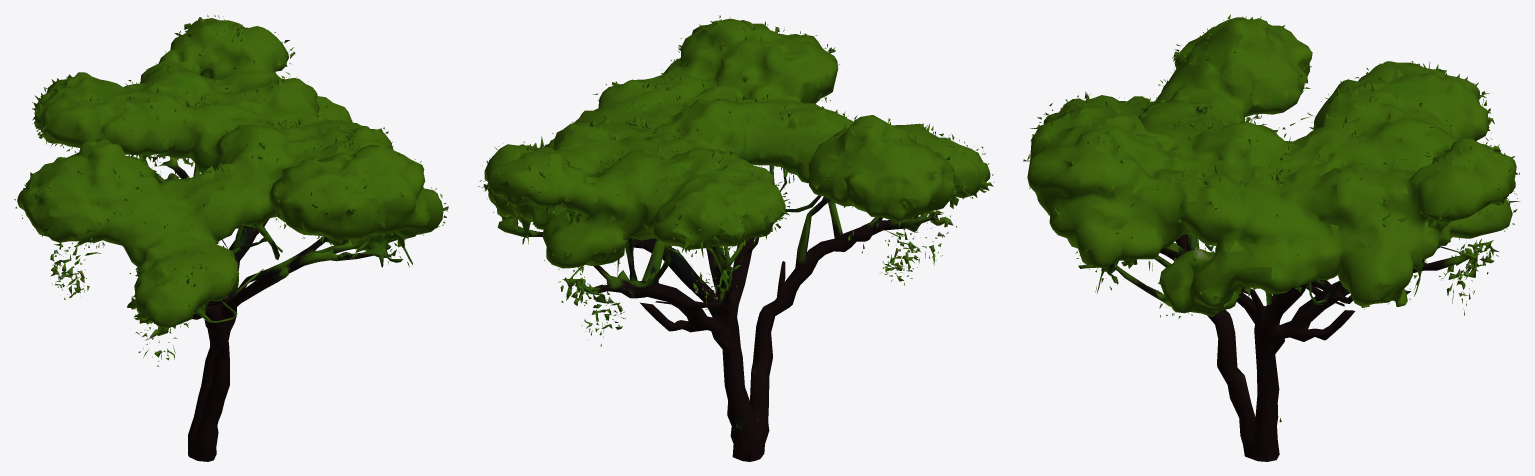
The model's file is arbol.obj.
The picture shows the model from 3 angles, left to right: view 1: azimuth 30°, elevation 25°; view 2: azimuth 150°, elevation 25°; view 3: azimuth 270°, elevation 25°; orthographic projection. The views are drawn at different scales.
Visible parts, largest first — view 1: tripo_node_56e6b434-222d-4ce2-8efa-69ce7028241f; view 2: tripo_node_56e6b434-222d-4ce2-8efa-69ce7028241f; view 3: tripo_node_56e6b434-222d-4ce2-8efa-69ce7028241f.
Boxes of the visible parts, x1=… form: tripo_node_56e6b434-222d-4ce2-8efa-69ce7028241f: x1=14, y1=14, x2=448, y2=461; tripo_node_56e6b434-222d-4ce2-8efa-69ce7028241f: x1=478, y1=15, x2=994, y2=461; tripo_node_56e6b434-222d-4ce2-8efa-69ce7028241f: x1=1023, y1=14, x2=1520, y2=461.
Size of the model in its own units: 0.9779 by 0.8366 by 0.9997.
Materials: 1 (1 with a texture image).
